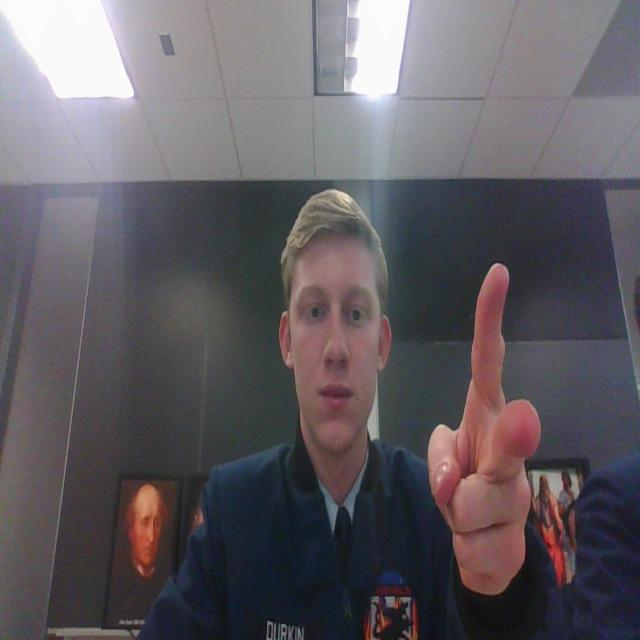scissors: (421, 252, 542, 603)
